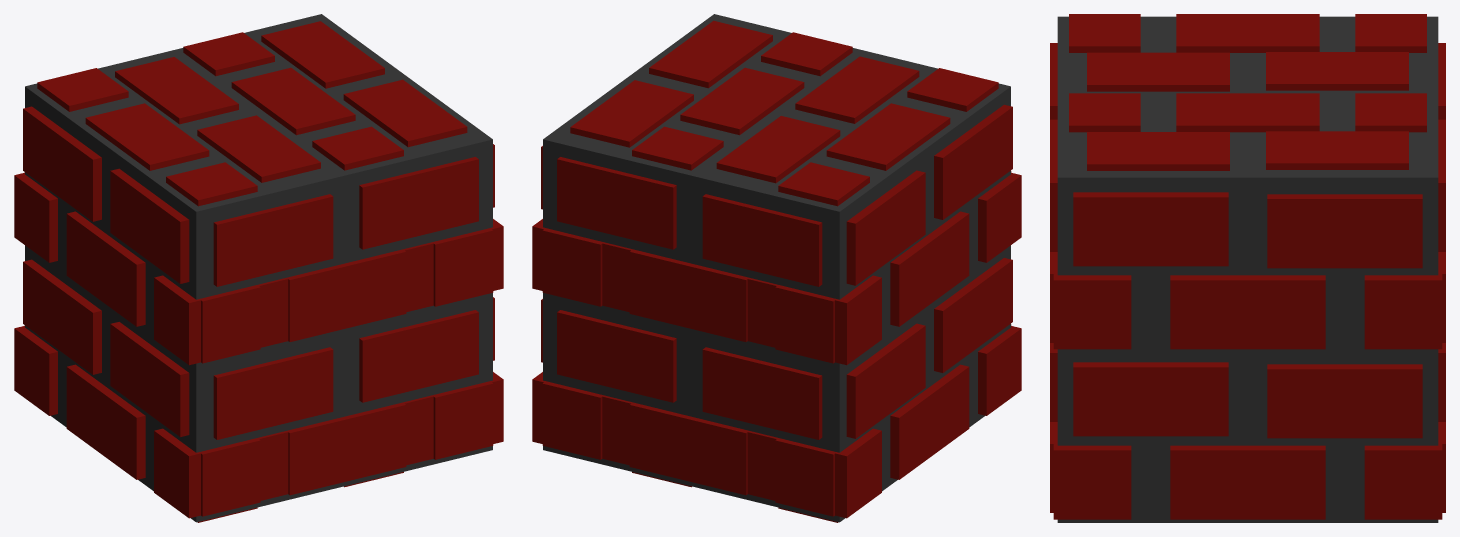
File: Block.obj
The picture shows the model from 3 angles, left to right: view 1: azimuth 30°, elevation 25°; view 2: azimuth 150°, elevation 25°; view 3: azimuth 270°, elevation 25°; orthographic projection. The views are drawn at different scales.
Visible parts, largest first — view 1: Cube.024, Cube.001; view 2: Cube.024, Cube.001; view 3: Cube.024, Cube.001.
Boxes of the visible parts, x1,y1,x2,y2 form: Cube.024: [14, 21, 503, 522]; Cube.001: [25, 14, 492, 522]; Cube.024: [532, 20, 1021, 522]; Cube.001: [543, 14, 1010, 522]; Cube.024: [1050, 14, 1445, 519]; Cube.001: [1057, 16, 1438, 522].
Bounding box in the file's own units: 1.06 × 1.04 × 1.04.
2 materials, 2 textured.
